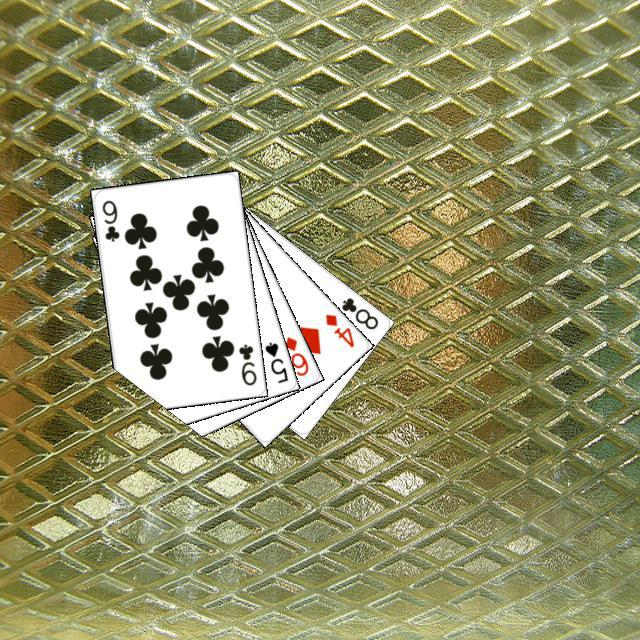4d: (320, 309, 356, 349)
5s: (260, 337, 290, 385)
6d: (280, 331, 310, 378)
8c: (336, 292, 380, 331)
9c: (234, 339, 258, 387), (97, 195, 121, 243)
